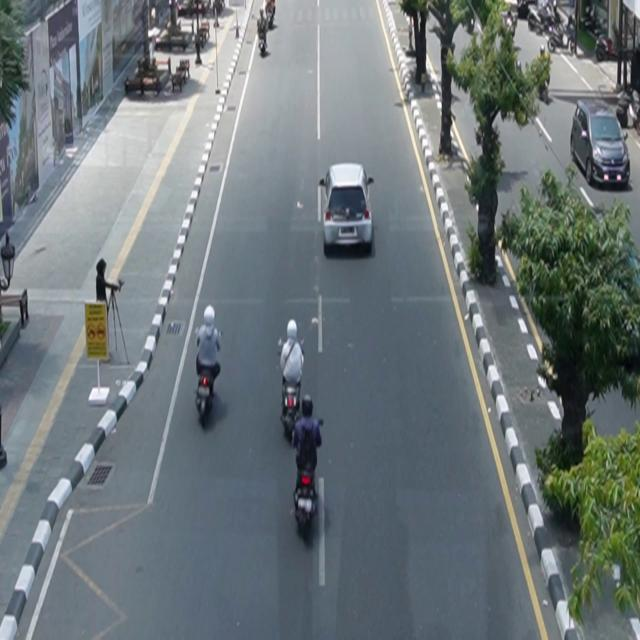car: (571, 99, 631, 189), (319, 162, 375, 254)
